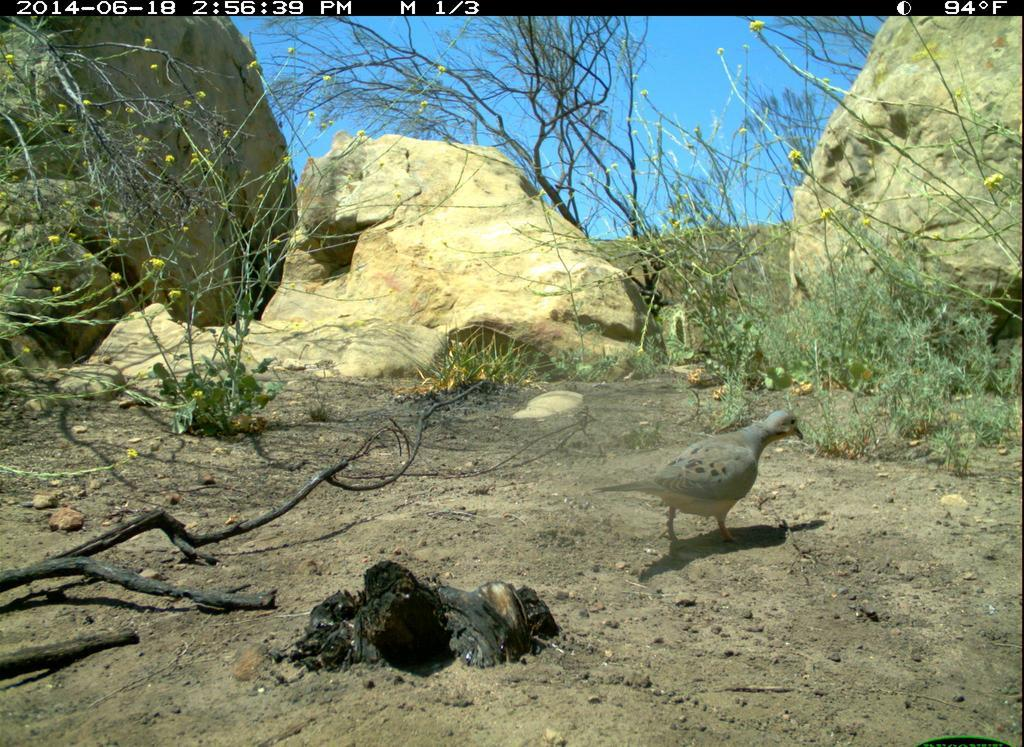bird: (598, 405, 808, 550)
